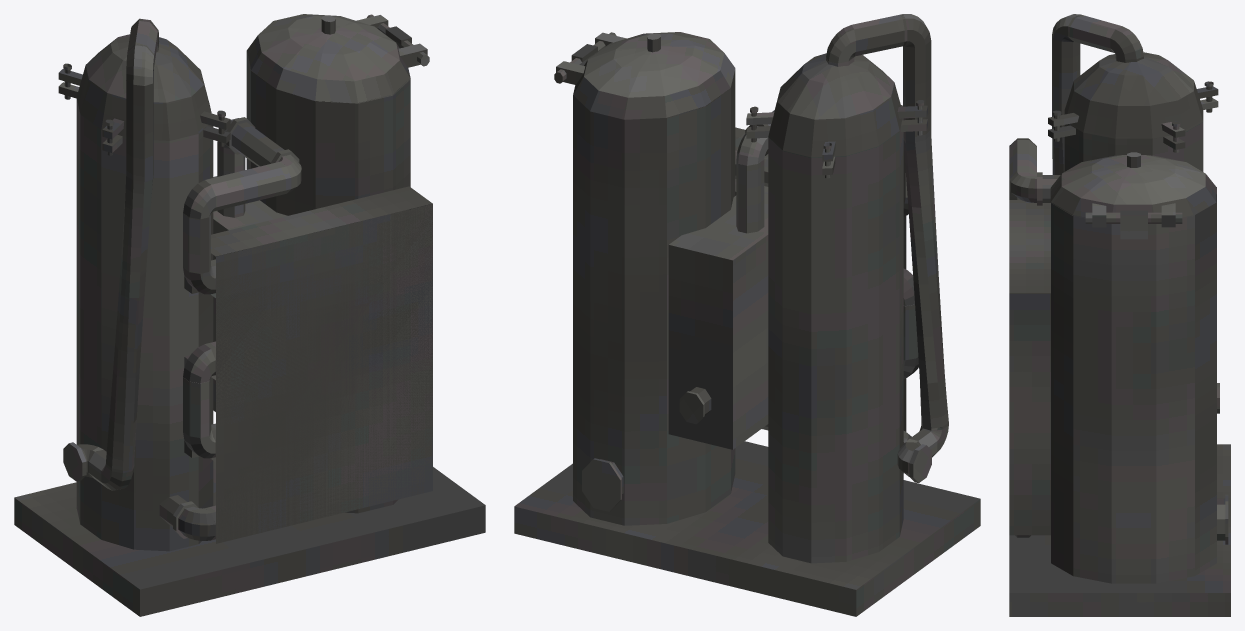
The model's file is tiny-gasifier.obj.
The picture shows the model from 3 angles, left to right: view 1: azimuth 30°, elevation 25°; view 2: azimuth 150°, elevation 25°; view 3: azimuth 270°, elevation 25°; orthographic projection. The views are drawn at different scales.
Visible parts, largest first — view 1: pipe-cover_blue, gas-filter_blue, firebox_blue, gasifier-base_blue, piping2_, piping1_blue, condenser_blue; view 2: gas-filter_blue, firebox_blue, gasifier-base_blue, condenser_blue, piping2_, piping1_blue, pipe-cover_blue; view 3: firebox_blue, pipe-cover_blue, gas-filter_blue, gasifier-base_blue, piping2_, piping1_blue.
Part boxes in pixels (x1=…): pipe-cover_blue: x1=184, y1=186, x2=432, y2=543; gas-filter_blue: x1=58, y1=34, x2=230, y2=551; firebox_blue: x1=246, y1=14, x2=429, y2=513; gasifier-base_blue: x1=14, y1=461, x2=485, y2=616; piping2_: x1=63, y1=18, x2=159, y2=490; piping1_blue: x1=178, y1=117, x2=301, y2=540; condenser_blue: x1=213, y1=176, x2=313, y2=411; gas-filter_blue: x1=746, y1=53, x2=927, y2=563; firebox_blue: x1=554, y1=32, x2=735, y2=525; gasifier-base_blue: x1=514, y1=441, x2=980, y2=616; condenser_blue: x1=668, y1=192, x2=768, y2=449; piping2_: x1=826, y1=14, x2=948, y2=482; piping1_blue: x1=735, y1=105, x2=918, y2=440; pipe-cover_blue: x1=735, y1=127, x2=906, y2=431; firebox_blue: x1=1050, y1=152, x2=1228, y2=583; pipe-cover_blue: x1=1009, y1=200, x2=1050, y2=535; gas-filter_blue: x1=1048, y1=52, x2=1218, y2=171; gasifier-base_blue: x1=1009, y1=444, x2=1230, y2=616; piping2_: x1=1052, y1=14, x2=1143, y2=174; piping1_blue: x1=1009, y1=138, x2=1060, y2=537.
Size of the model in its own units: 0.4091 by 0.5957 by 0.2552.
